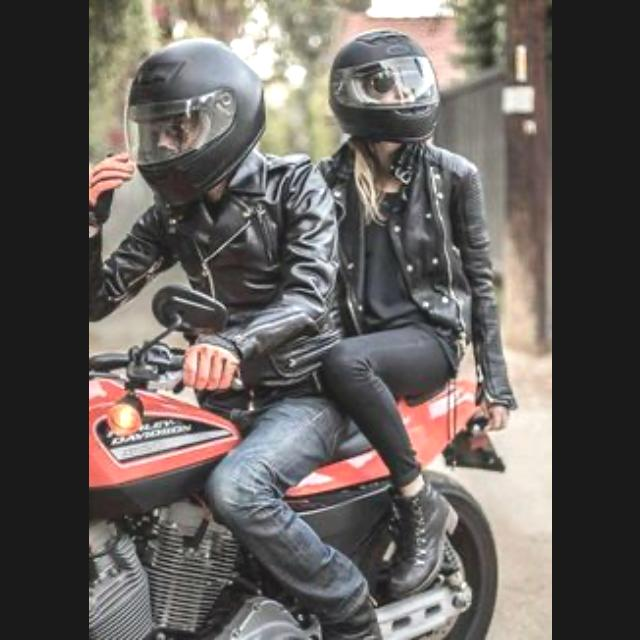With Helmet: (116, 38, 270, 200), (306, 19, 446, 145)
